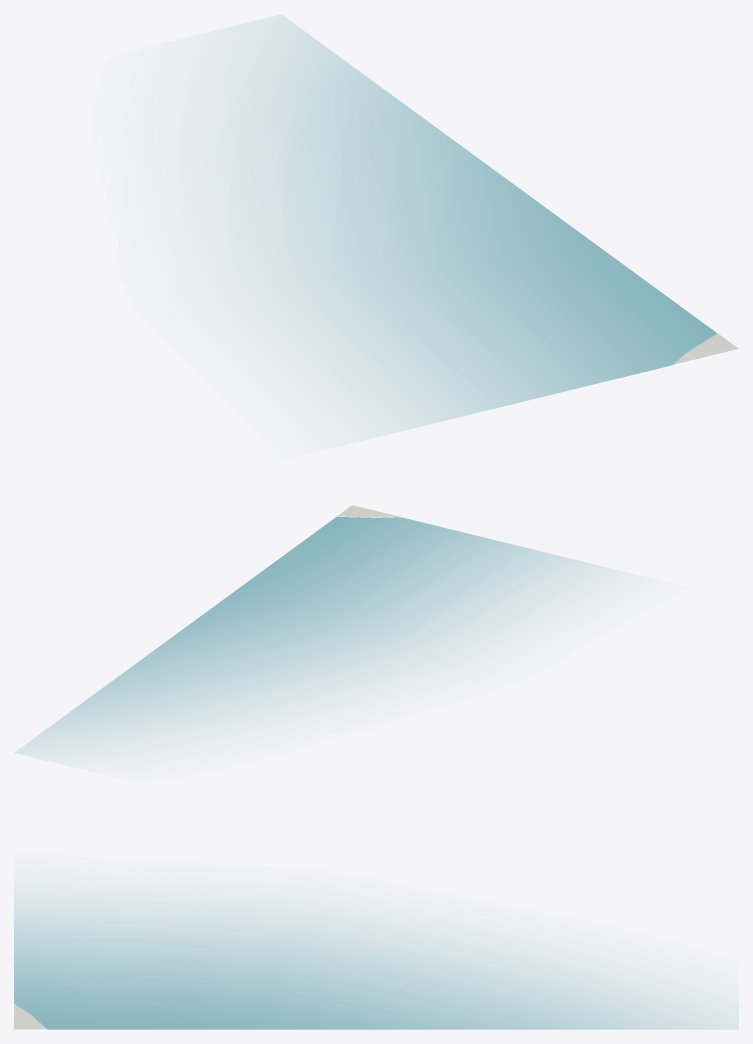
3 renders of one model, top to bottom at view 1: azimuth 30°, elevation 25°; view 2: azimuth 150°, elevation 25°; view 3: azimuth 270°, elevation 25°, orthographic. The views are drawn at different scales.
Parts seen in each view (by area): view 1: city; view 2: city; view 3: city.
Part boxes in pixels (x1,y1,x2,y2): city: [201, 15, 738, 437]; city: [15, 505, 621, 761]; city: [14, 888, 738, 1029].
Size of the model in its own units: 330 by 0.18 by 500.
